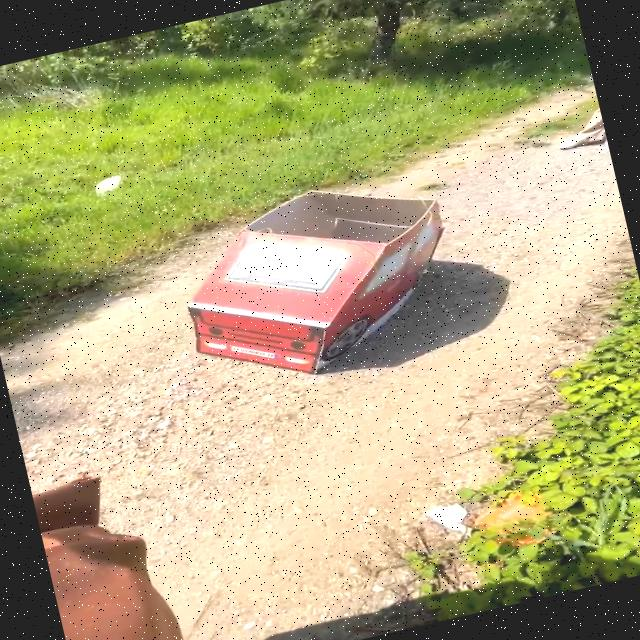red_car: (141, 145, 497, 418)
